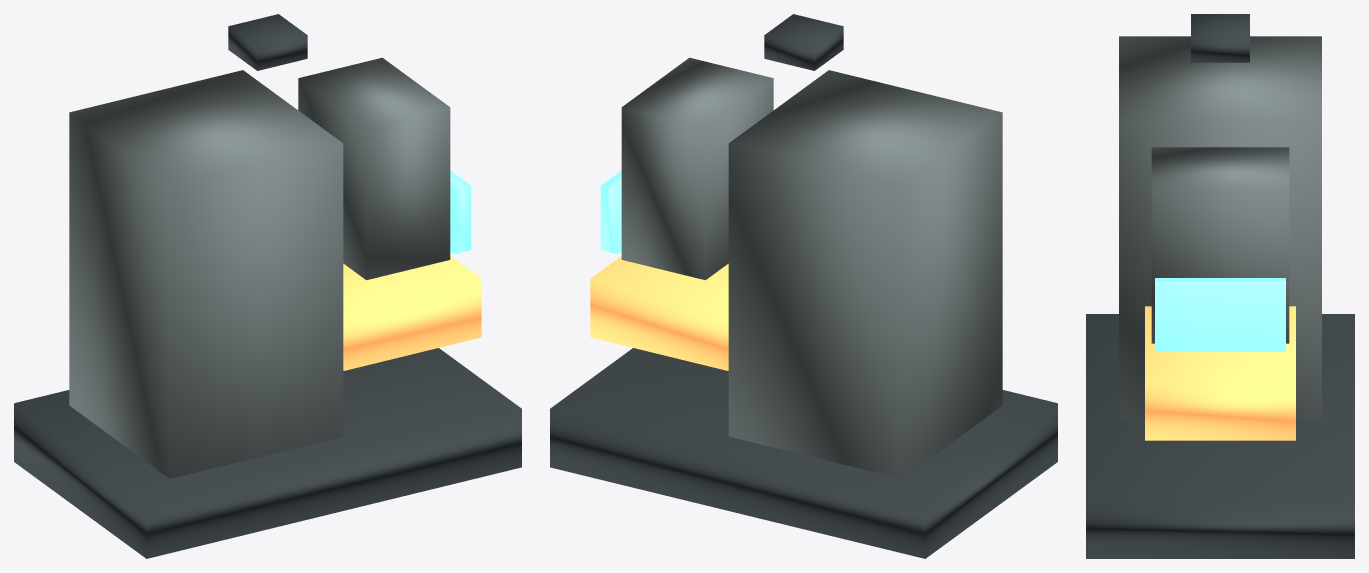
The model's file is jovian-harvester-separator-package-lod1.glb.
3 renders of one model, left to right at view 1: azimuth 30°, elevation 25°; view 2: azimuth 150°, elevation 25°; view 3: azimuth 270°, elevation 25°, orthographic.
Visible parts, largest first — view 1: jovian-harvester-separator-package-vessel, jovian-harvester-separator-package-skid, jovian-harvester-separator-package-knockout-pot, jovian-harvester-separator-package-manifold, objective-beacon-mount, jovian-harvester-interactable-status; view 2: jovian-harvester-separator-package-vessel, jovian-harvester-separator-package-skid, jovian-harvester-separator-package-knockout-pot, jovian-harvester-separator-package-manifold, objective-beacon-mount, jovian-harvester-interactable-status; view 3: jovian-harvester-separator-package-skid, jovian-harvester-separator-package-vessel, jovian-harvester-separator-package-knockout-pot, jovian-harvester-separator-package-manifold, jovian-harvester-interactable-status, objective-beacon-mount.
Boxes of the visible parts, x1,y1,x2,y2 form: jovian-harvester-separator-package-vessel: (69, 70, 343, 478); jovian-harvester-separator-package-skid: (14, 348, 521, 558); jovian-harvester-separator-package-knockout-pot: (298, 57, 450, 280); jovian-harvester-separator-package-manifold: (343, 256, 481, 370); objective-beacon-mount: (228, 14, 307, 70); jovian-harvester-interactable-status: (450, 170, 471, 254); jovian-harvester-separator-package-vessel: (728, 70, 1002, 478); jovian-harvester-separator-package-skid: (550, 348, 1057, 558); jovian-harvester-separator-package-knockout-pot: (621, 57, 773, 280); jovian-harvester-separator-package-manifold: (590, 256, 728, 370); objective-beacon-mount: (764, 14, 843, 70); jovian-harvester-interactable-status: (600, 170, 621, 254); jovian-harvester-separator-package-skid: (1086, 314, 1354, 558); jovian-harvester-separator-package-vessel: (1119, 36, 1321, 419); jovian-harvester-separator-package-knockout-pot: (1151, 147, 1289, 343); jovian-harvester-separator-package-manifold: (1145, 306, 1295, 440); jovian-harvester-interactable-status: (1155, 278, 1285, 351); objective-beacon-mount: (1191, 14, 1249, 62).
Size of the model in its own units: 1.34 by 1.48 by 0.82.
